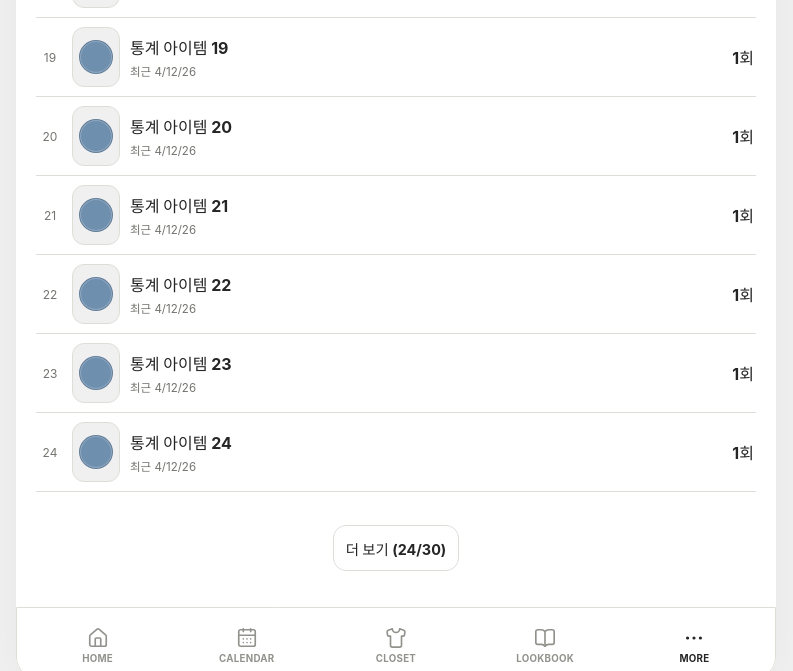
Test: StatisticsPage Phase 4 item usage › shows the Statistics full list in 24-item batches
The width and height of the screenshot is (793, 671).
(page scrolled)
Click the button "더 보기 (24/30)" at (396, 548), box [333, 525, 459, 571]
(page scrolled)
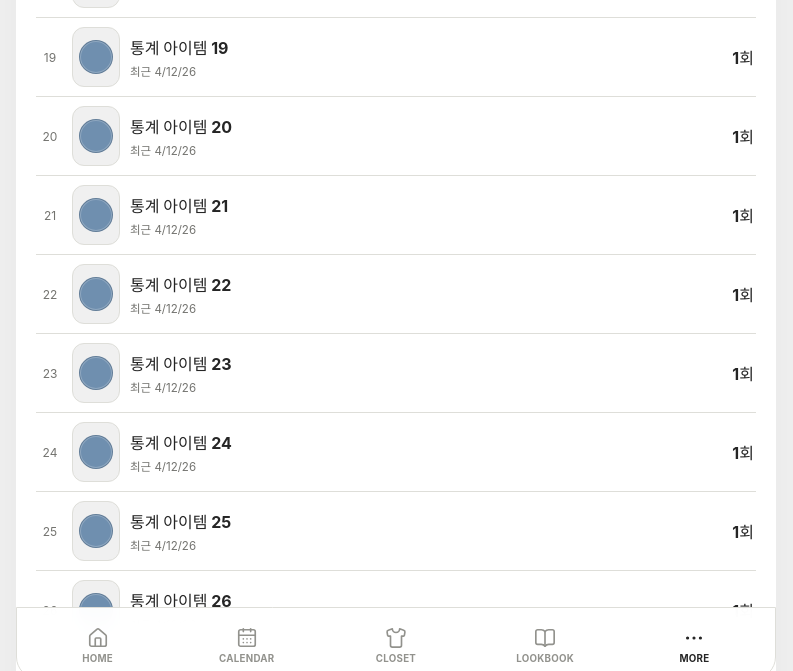
Check: the button "더 보기" is gone
